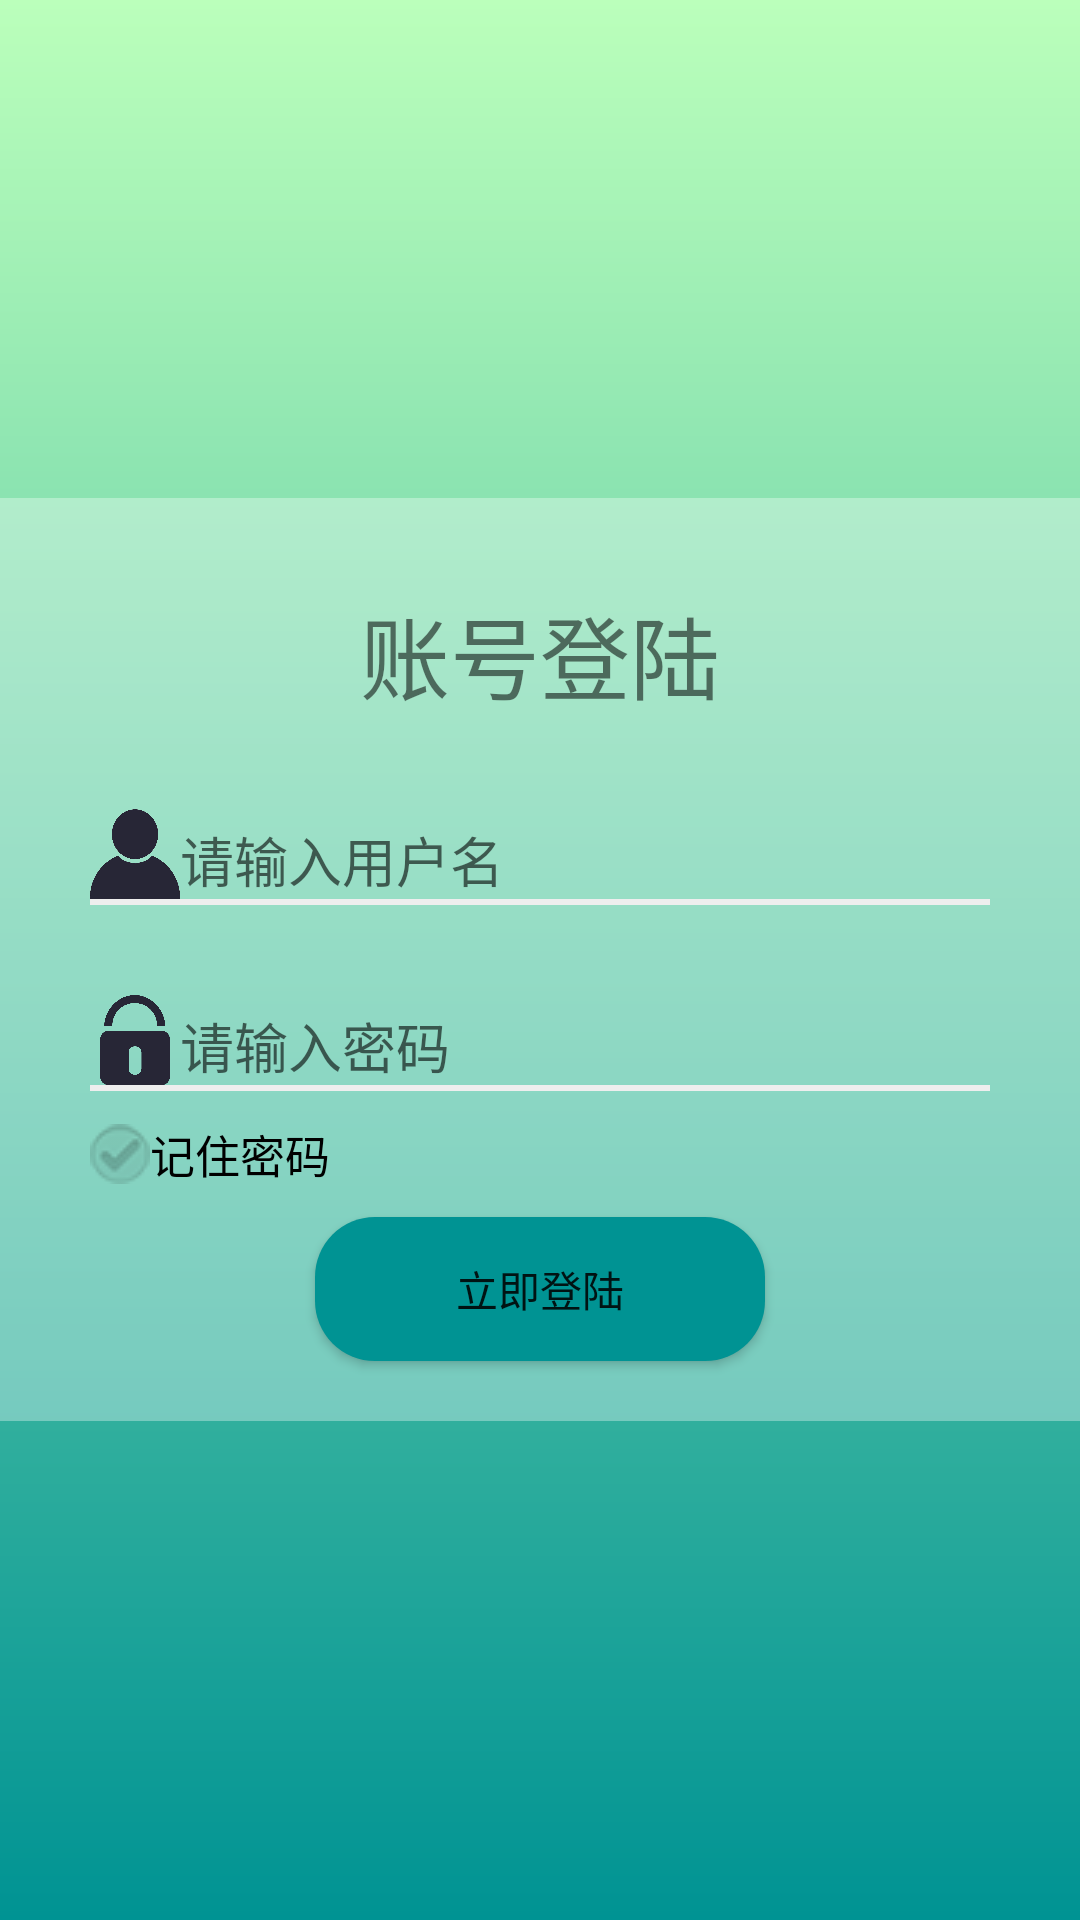

Icon bounding boxes for this 1080 × 1920 phone screenshot, format (left=x1, top=y1, right=x2, bottom=y2):
user: (left=90, top=809, right=180, bottom=899)
